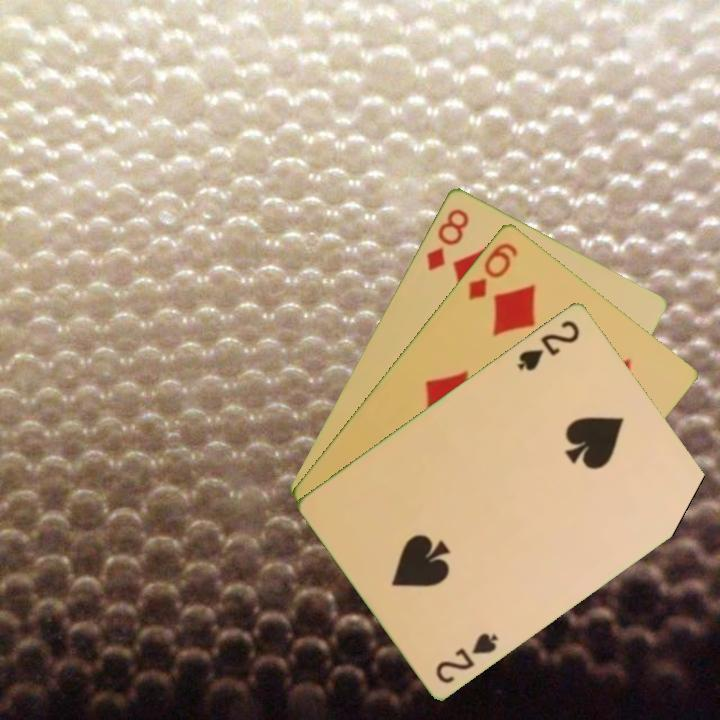2s: (513, 315, 583, 374), (432, 628, 501, 686)
6d: (464, 238, 521, 303)
8d: (422, 204, 472, 273)
